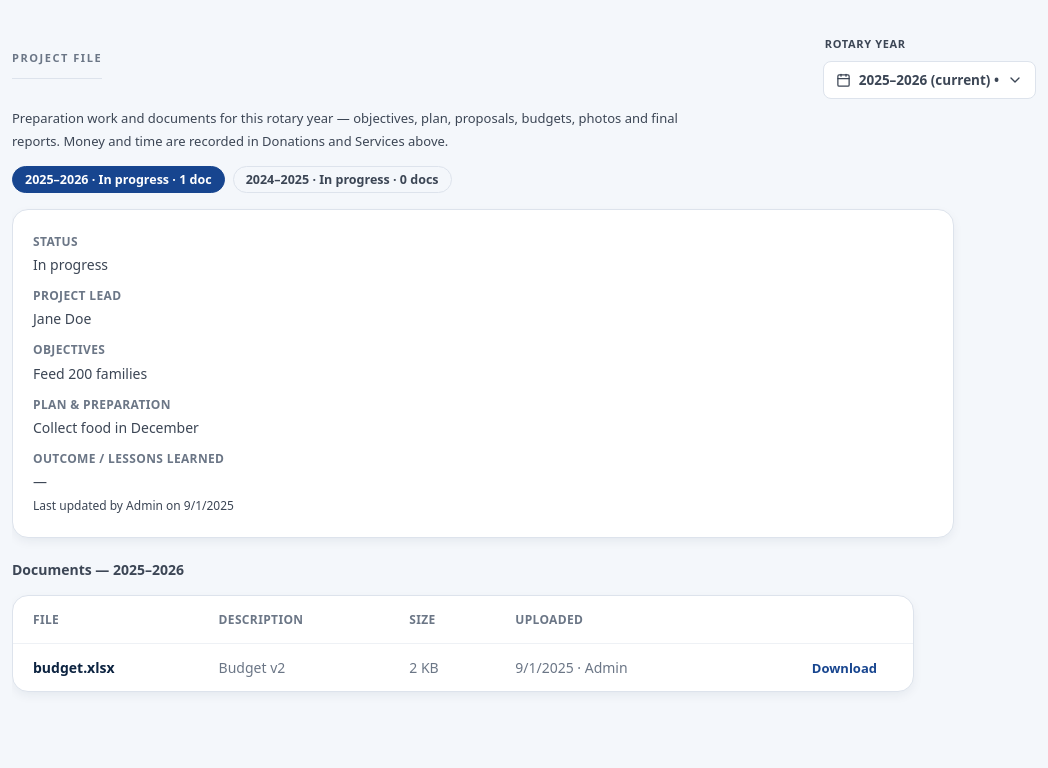
OrganisationProjectFile › switches year from the history chips
Check: the text "Feed 200 families" is shown, box [33, 364, 147, 383]
Step 1. Click the button "2024–2025 · In progress · 0 docs" → coordinates (342, 179), box [233, 166, 452, 193]
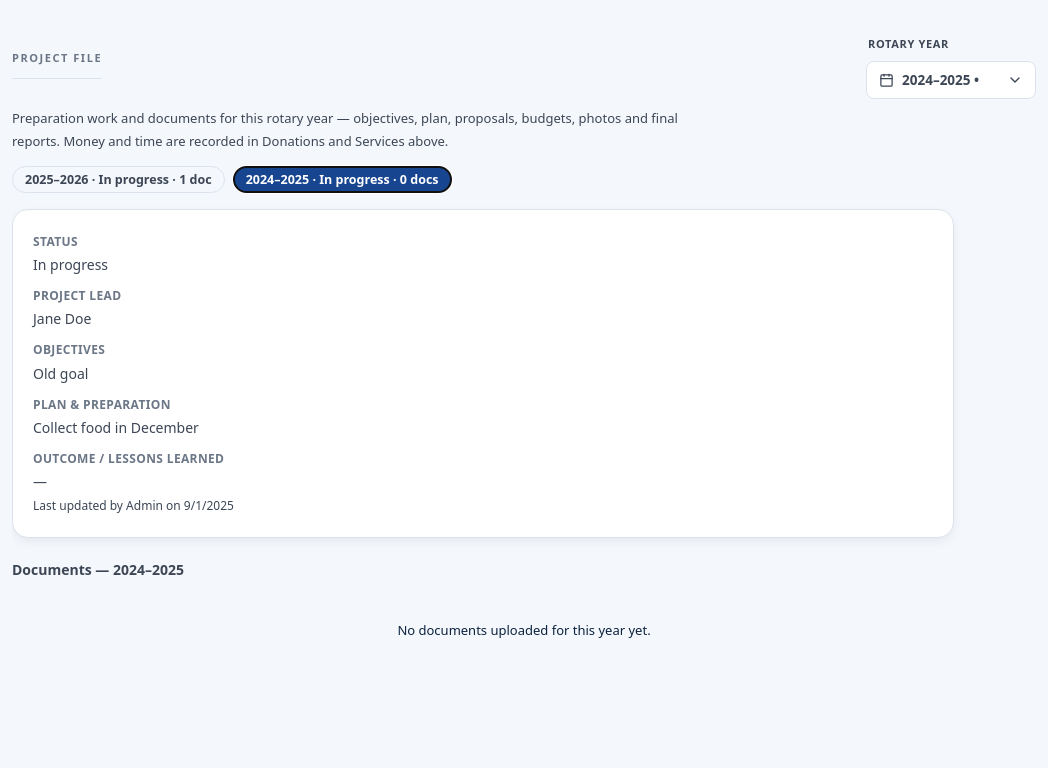
Check: the text "Old goal" is shown, box [33, 364, 88, 383]
Check: the text "No documents uploaded for this year yet." is shown, box [397, 621, 651, 639]
